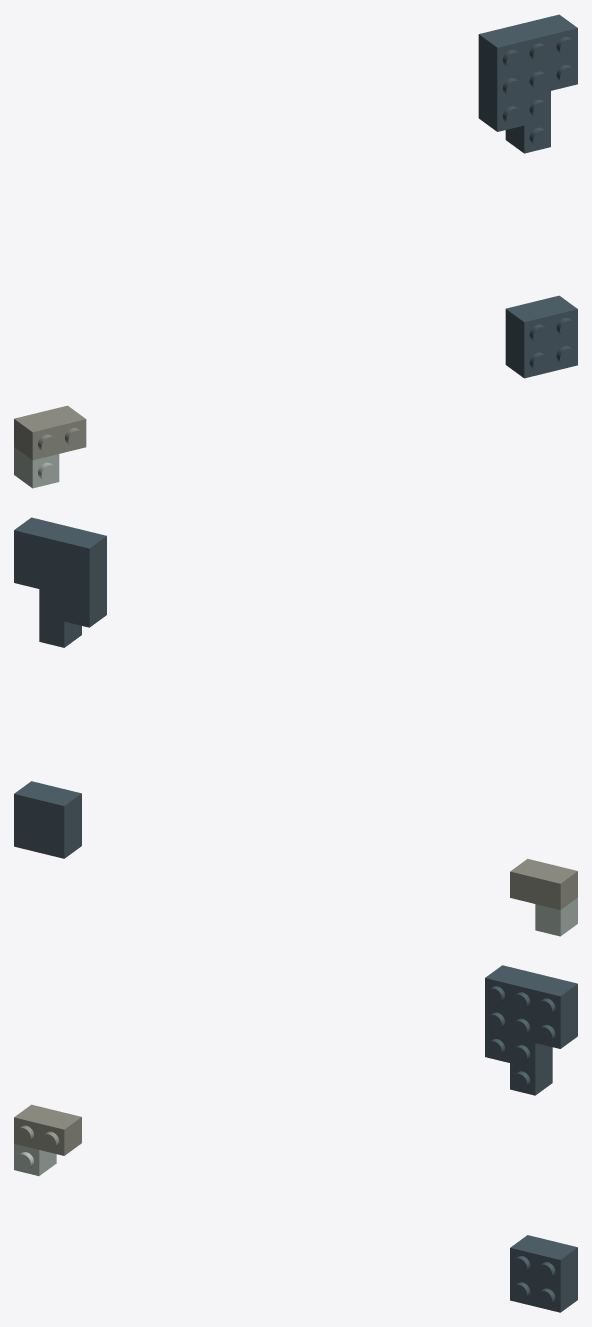
Rendered from current.glb.
The picture shows the model from 3 angles, top to bottom: view 1: azimuth 30°, elevation 25°; view 2: azimuth 150°, elevation 25°; view 3: azimuth 330°, elevation 25°; orthographic projection. The views are drawn at different scales.
Parts seen in each view (by area): view 1: world; view 2: world; view 3: world.
Part boxes in pixels (x1,y1,x2,y2): world: (14,14,577,488); world: (14,517,577,936); world: (14,965,577,1312).
Size of the model in its own units: 168 by 96 by 21.
